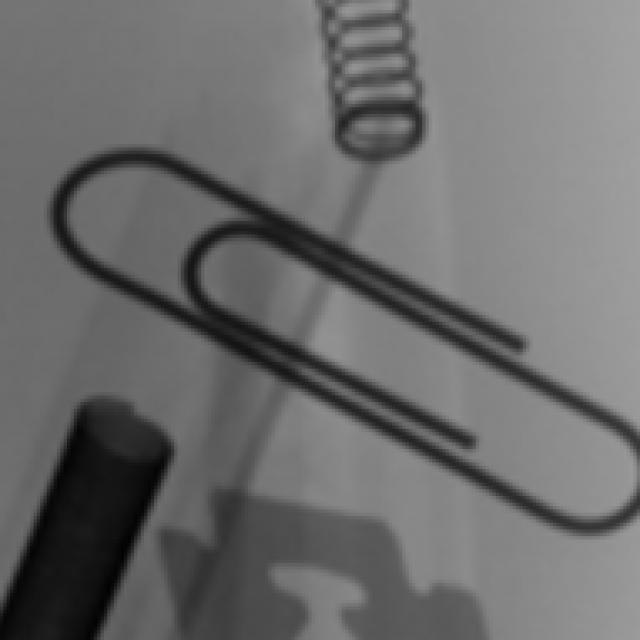GUN: (2, 369, 232, 640)
